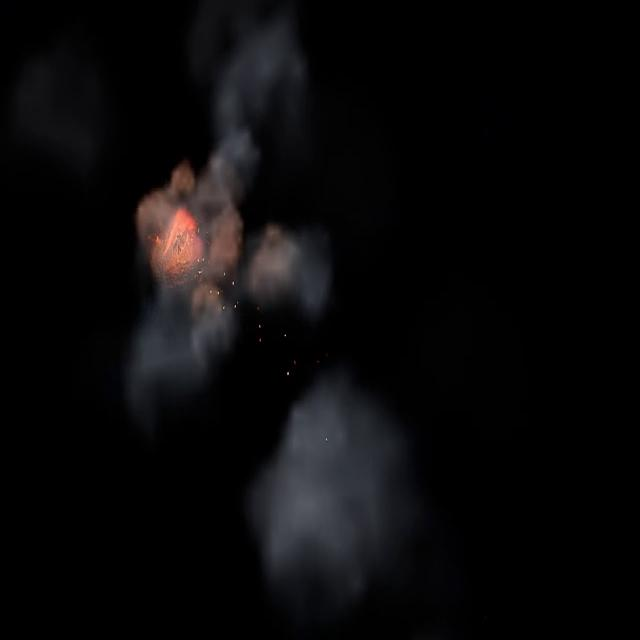fire: (150, 206, 204, 262)
smoke: (126, 20, 327, 428), (248, 378, 409, 617)
